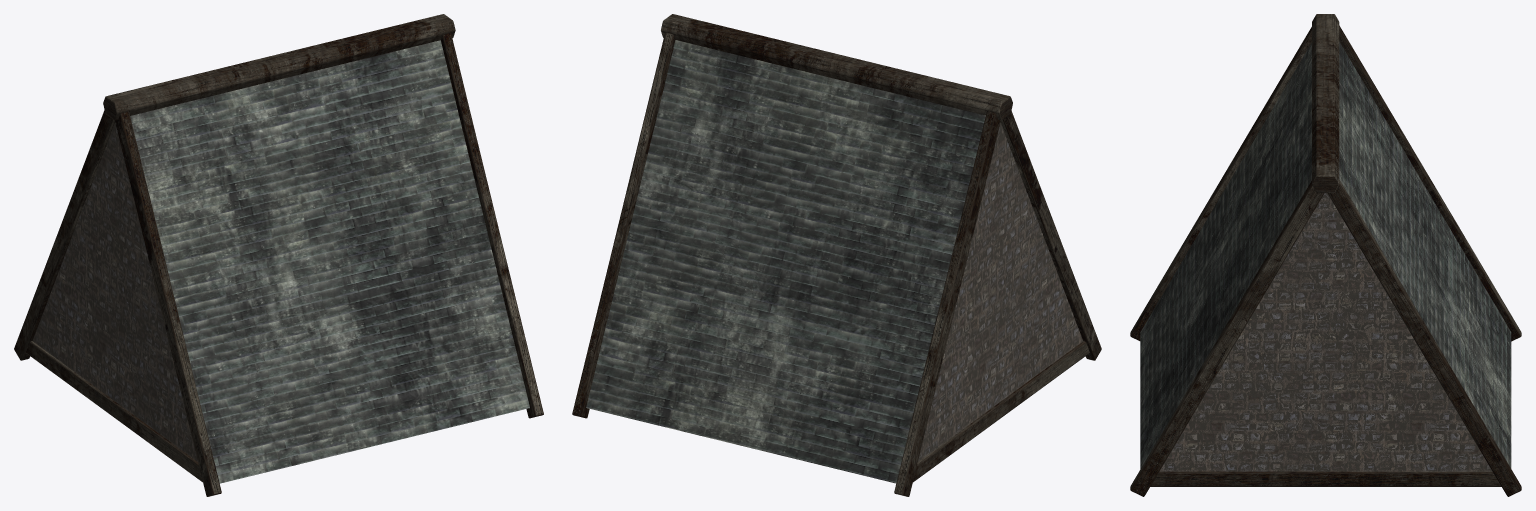
The model's file is CastleRoofStone_Small.fbx.
The picture shows the model from 3 angles, left to right: view 1: azimuth 30°, elevation 25°; view 2: azimuth 150°, elevation 25°; view 3: azimuth 270°, elevation 25°; orthographic projection. The views are drawn at different scales.
Parts seen in each view (by area): view 1: Castle Tower Roof Stone Small; view 2: Castle Tower Roof Stone Small; view 3: Castle Tower Roof Stone Small.
Part boxes in pixels (box(x1,y1,x2,y2)): Castle Tower Roof Stone Small: box(14, 14, 543, 496); Castle Tower Roof Stone Small: box(572, 14, 1101, 496); Castle Tower Roof Stone Small: box(1130, 14, 1521, 496).
Bounding box in the file's own units: 633 × 589 × 645.
